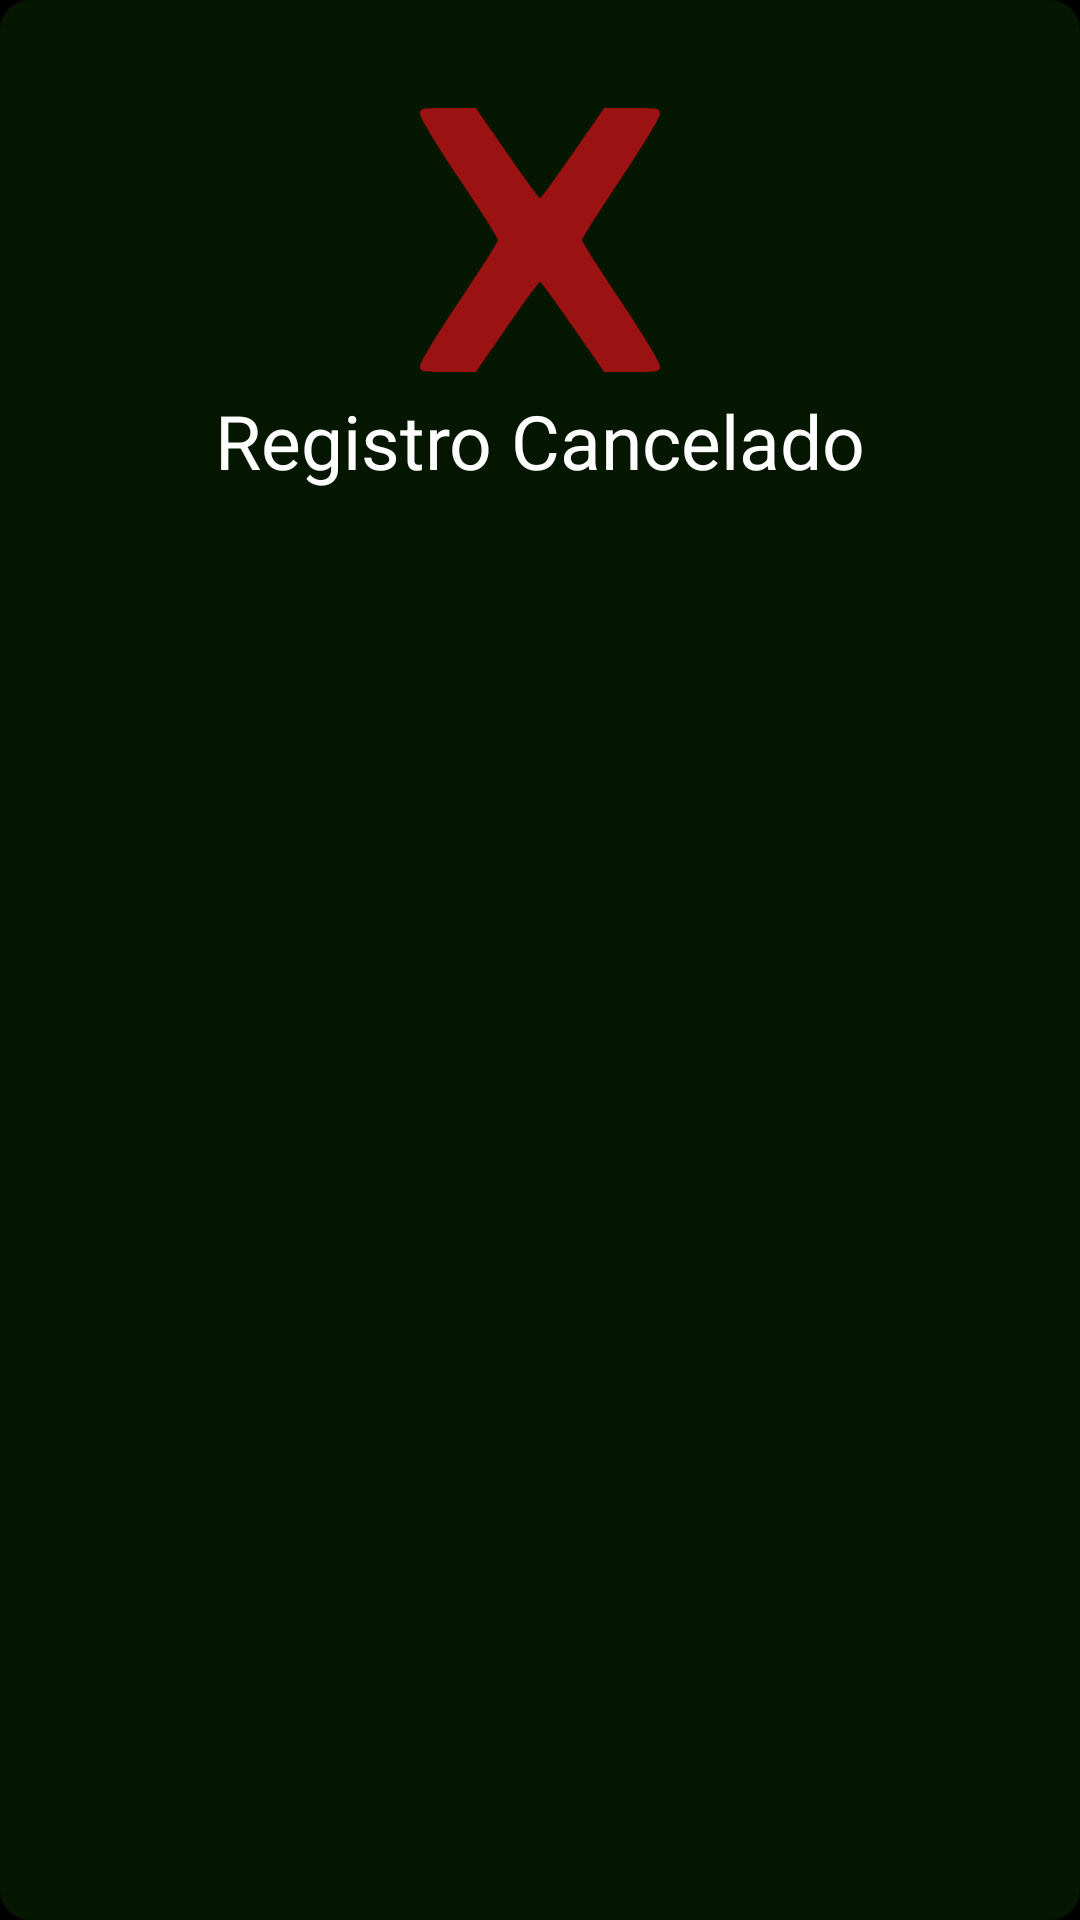

Locate icon controls on the screen. Image size 1080px×1920px, boxes as Rect(x1, y1, x2, y2).
equis: Rect(420, 108, 660, 372)
